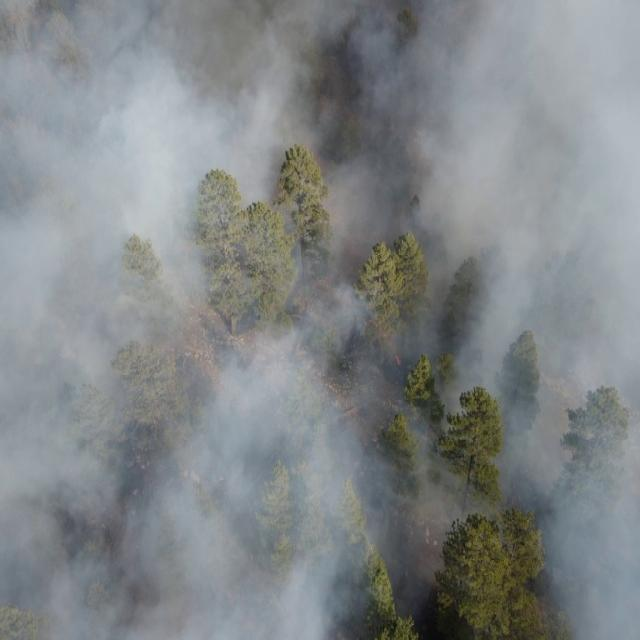fire: (394, 354, 404, 366)
smoke: (0, 0, 361, 640), (361, 0, 640, 564), (547, 564, 640, 640), (388, 562, 442, 626)
